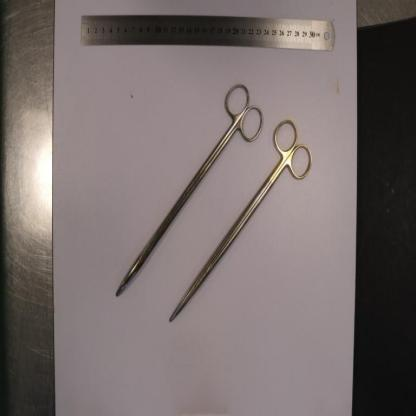7 Metzenbaum Scissors: (171, 116, 315, 325)
9 Metzenbaum Scissors: (116, 79, 265, 299)
